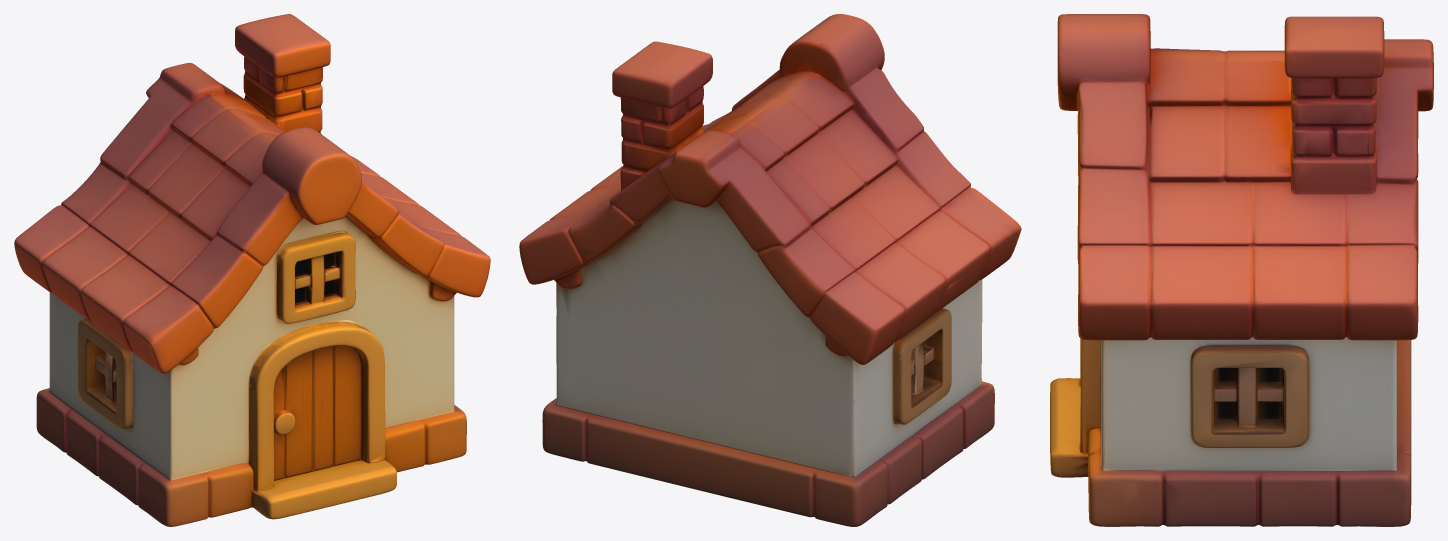
File: house.glb
The picture shows the model from 3 angles, left to right: view 1: azimuth 30°, elevation 25°; view 2: azimuth 150°, elevation 25°; view 3: azimuth 270°, elevation 25°; orthographic projection. The views are drawn at different scales.
Visible parts, largest first — view 1: node_0; view 2: node_0; view 3: node_0.
Boxes of the visible parts, x1,y1,x2,y2 form: node_0: [14, 14, 490, 526]; node_0: [519, 14, 1021, 526]; node_0: [1050, 14, 1433, 526].
Size of the model in its own units: 0.7947 by 0.8306 by 0.6395.
Materials: 1 (1 with a texture image).
